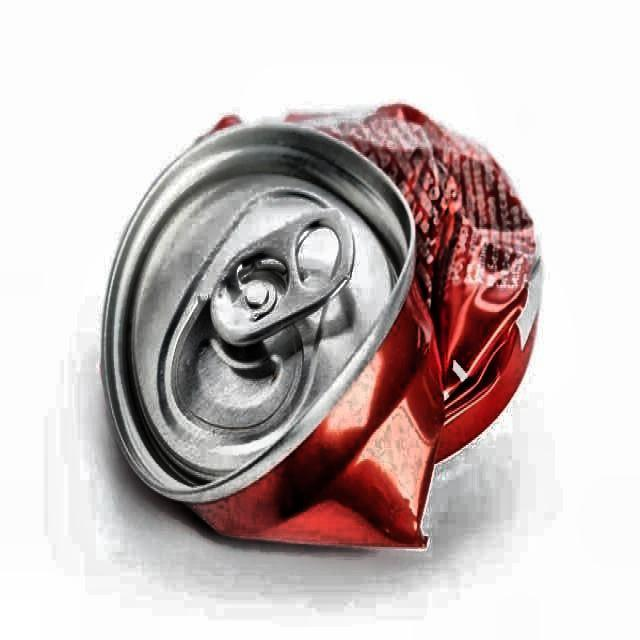metal: (98, 101, 545, 550)
